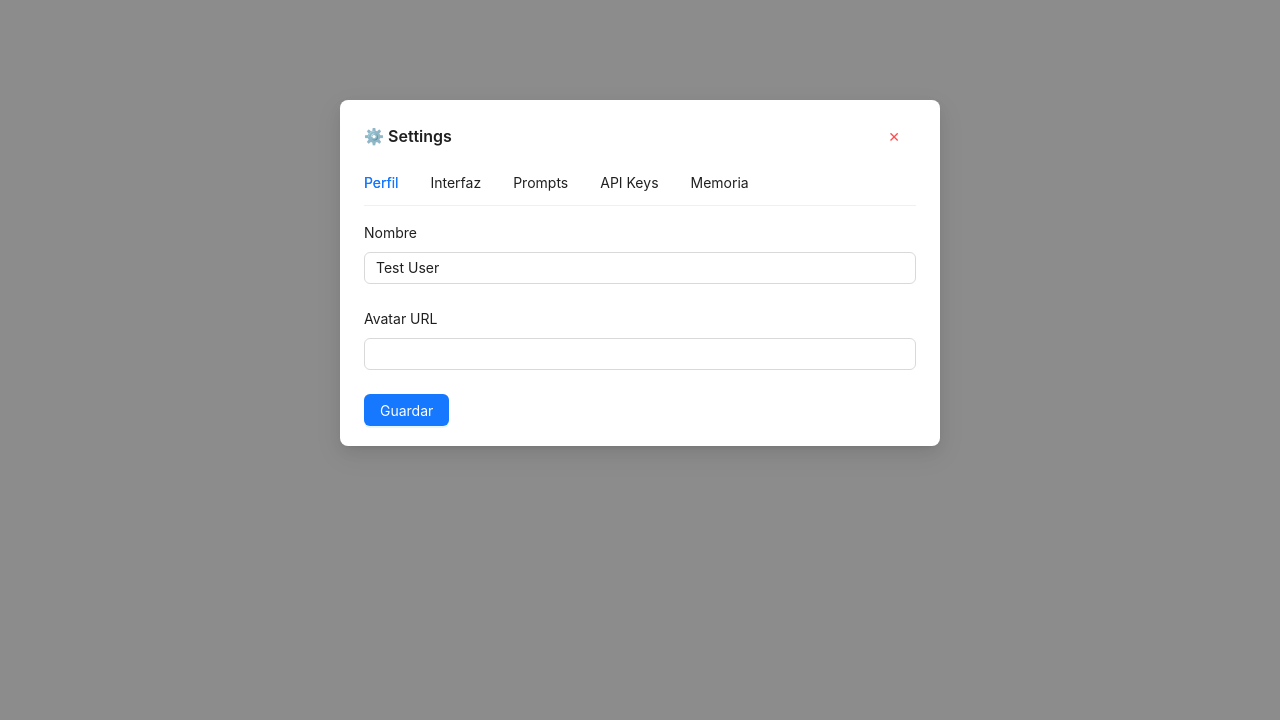
Scenario: SettingsDialog › muestra error de validación y NO guarda con un esquema no permitido
Type "javascript:alert(1)" into the field labelled "Avatar URL" at (640, 354), box [364,338,916,370]
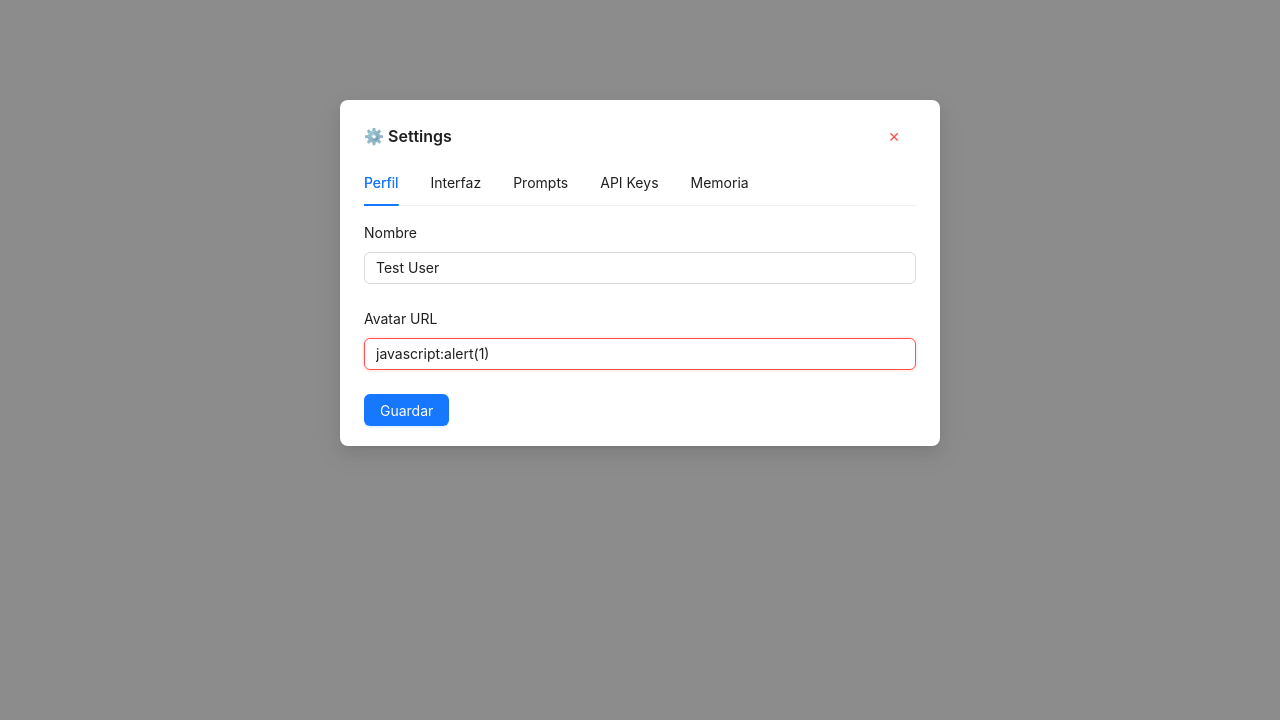
Click the button "Guardar" at (407, 410), box [364,394,449,426]
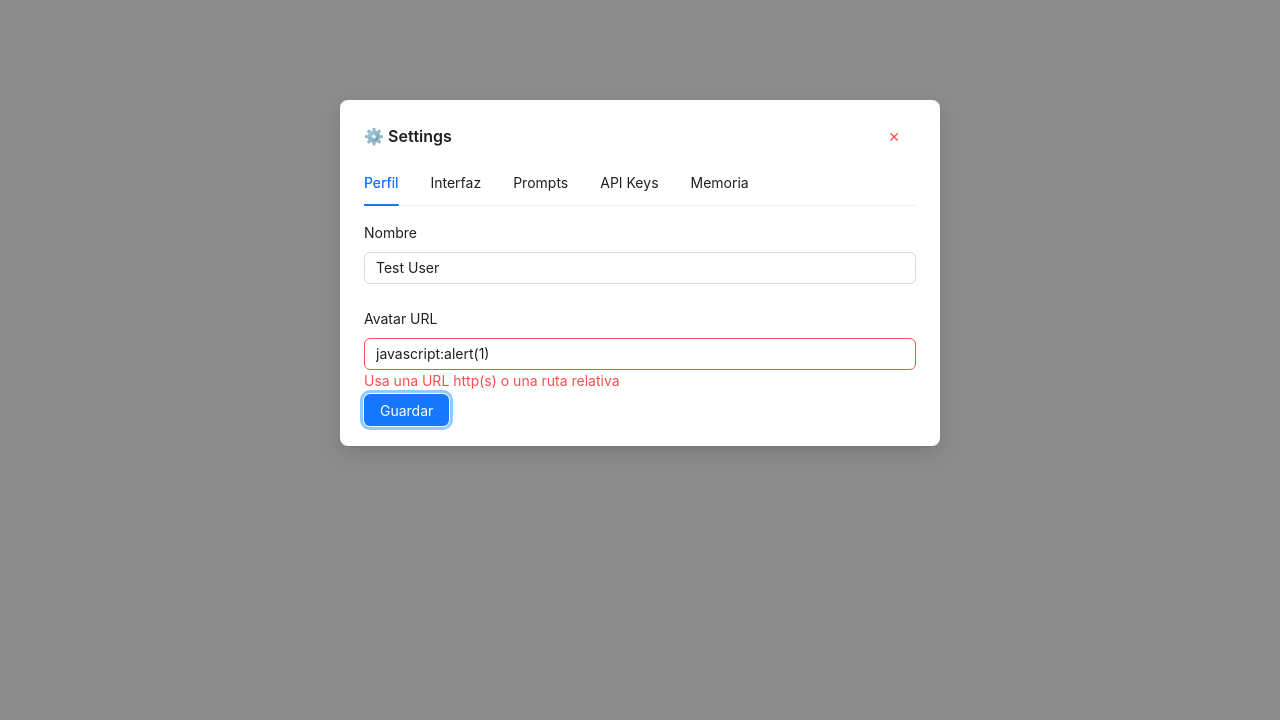
Expected: the text "Usa una URL http(s) o una ruta relativa" is shown, [364,372,620,389]
